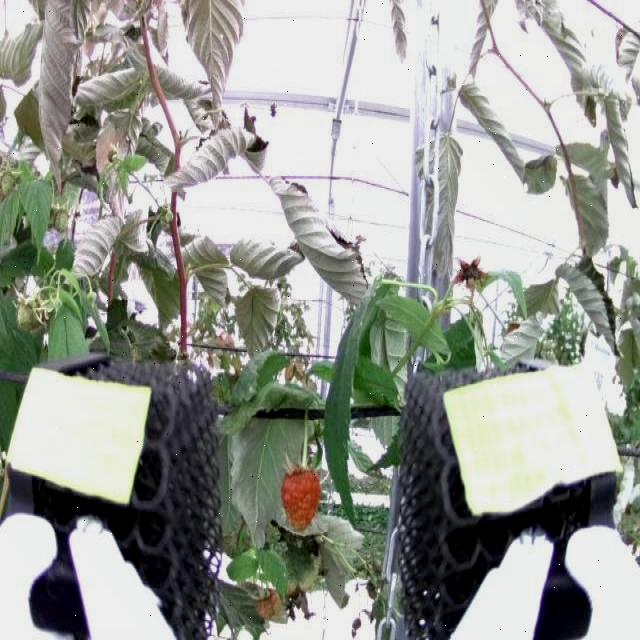Riped berries: (282, 463, 325, 531)
